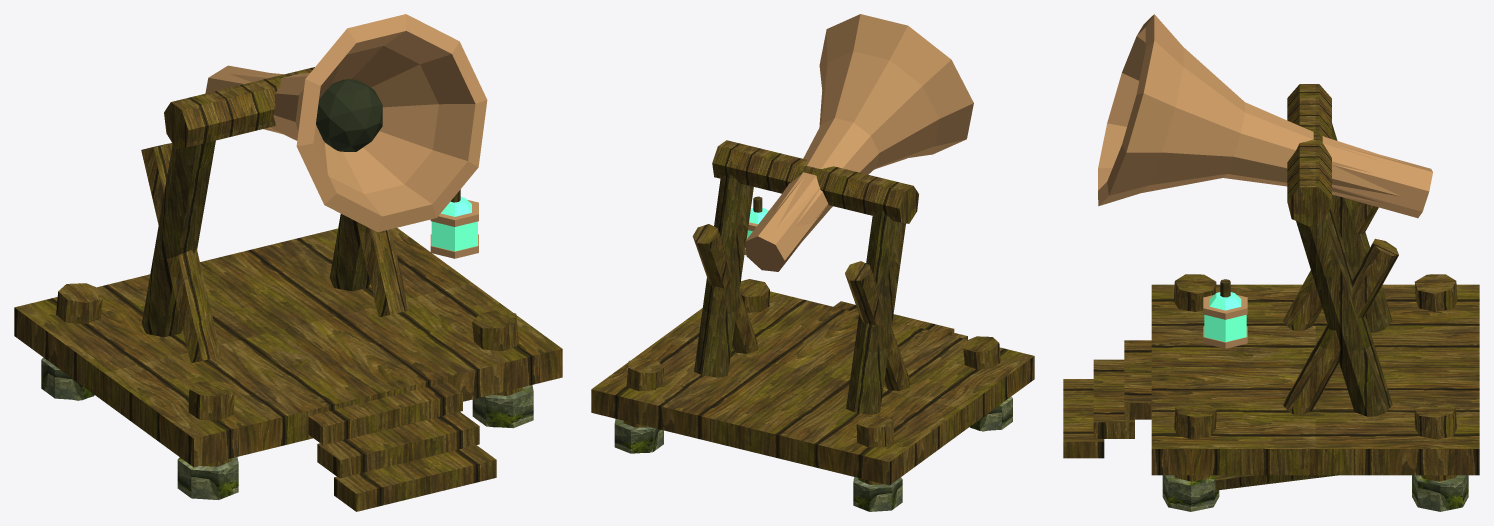
The model's file is 07-croak-horn.glb.
3 views of the same model, side by side, from view 1: azimuth 30°, elevation 25°; view 2: azimuth 150°, elevation 25°; view 3: azimuth 270°, elevation 25° (orthographic). The views are drawn at different scales.
Parts seen in each view (by area): view 1: 07-croak-horn; view 2: 07-croak-horn; view 3: 07-croak-horn.
Part boxes in pixels (box(x1,y1,x2,y2)): 07-croak-horn: box(14, 14, 562, 511); 07-croak-horn: box(591, 14, 1034, 511); 07-croak-horn: box(1063, 14, 1479, 511).
Bounding box in the file's own units: 2.55 × 2.97 × 2.73.
6 materials, 3 textured.
